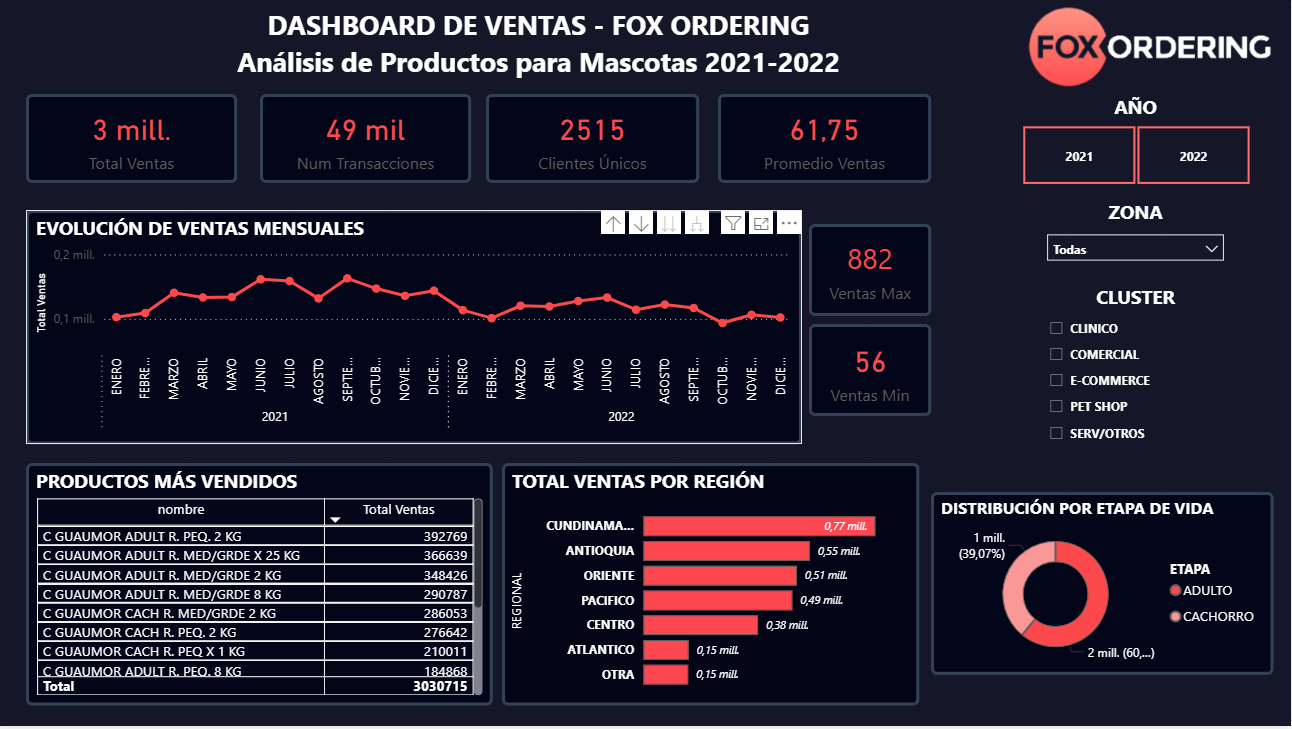

Layout of this report page (visuals, bound fields, positions):
{"tool":"powerbi","page":{"name":"Página 1","canvas":[1280,720],"ordinal":0},"visuals":[{"type":"card","fields":{"Values":["PD_Ventas_Mes.Total Ventas"]},"box":[28.7,95,208.8,88.1],"z":0},{"type":"card","fields":{"Values":["PD_Ventas_Mes.Clientes Únicos"]},"box":[484,95,210.8,88.1],"z":1000},{"type":"card","title":"Ventas Maximas","fields":{"Values":["PD_Ventas_Mes.Ventas Max"]},"box":[803.6,223.7,120.7,91.1],"z":2000},{"type":"card","fields":{"Values":["PD_Ventas_Mes.Num Transacciones"]},"box":[260.3,95,208.8,88.1],"z":3000},{"type":"lineChart","title":"EVOLUCIÓN DE VENTAS MENSUALES","fields":{"Category":["PD_Ventas_Mes.año","PD_Ventas_Mes.mes_txt"],"Y":["PD_Ventas_Mes.Total Ventas"]},"box":[28.7,209.8,768,231.6],"z":4000},{"type":"tableEx","title":"PRODUCTOS MÁS VENDIDOS","fields":{"Values":["PD_Maestro_Productos.nombre","PD_Ventas_Mes.Total Ventas"]},"box":[28.7,460.2,462.2,240.5],"z":5000},{"type":"donutChart","title":"DISTRIBUCIÓN POR ETAPA DE VIDA","fields":{"Category":["PD_Maestro_Productos.etapa"],"Y":["PD_Ventas_Mes.Total Ventas"]},"box":[924.4,488.9,339.5,181.1],"z":6000},{"type":"image","box":[1014.4,0,265.2,95],"z":7000},{"type":"textbox","box":[195,3,681.9,88.1],"z":8000},{"type":"slicer","title":"AÑO","fields":{"Values":["PD_Ventas_Mes.año"]},"box":[989.7,95,274.1,96],"z":9000},{"type":"slicer","title":"CLUSTER","fields":{"Values":["PD_Maestro_Clientes.cluster"]},"box":[1029.3,283.1,195,169.2],"z":10000},{"type":"slicer","title":"ZONA","fields":{"Values":["PD_Maestro_Clientes.regionNielsen"]},"box":[1029.3,198.9,195,74.2],"z":11000},{"type":"clusteredBarChart","title":"TOTAL VENTAS POR REGIÓN","fields":{"Category":["PD_Maestro_Clientes.regionNielsen"],"Y":["PD_Ventas_Mes.Total Ventas"]},"box":[499.8,460.2,412.7,239.5],"z":12000},{"type":"card","fields":{"Values":["PD_Ventas_Mes.Ventas Min"]},"box":[803.6,322.6,120.7,91.1],"z":13000},{"type":"card","fields":{"Values":["PD_Ventas_Mes.Promedio Ventas"]},"box":[713.6,95,210.8,88.1],"z":14000}]}

Visuals, with their boxes in screenshot pixels (x1, y1, x2, y2), scaled from the page's 1280x720 canvas onto the 1292x729 screenshot:
card - PD_Ventas_Mes.Total Ventas: {"left": 29, "top": 96, "right": 240, "bottom": 185}
card - PD_Ventas_Mes.Clientes Únicos: {"left": 489, "top": 96, "right": 701, "bottom": 185}
"Ventas Maximas" card: {"left": 811, "top": 226, "right": 933, "bottom": 319}
card - PD_Ventas_Mes.Num Transacciones: {"left": 263, "top": 96, "right": 473, "bottom": 185}
"EVOLUCIÓN DE VENTAS MENSUALES" lineChart: {"left": 29, "top": 212, "right": 804, "bottom": 447}
"PRODUCTOS MÁS VENDIDOS" tableEx: {"left": 29, "top": 466, "right": 496, "bottom": 709}
"DISTRIBUCIÓN POR ETAPA DE VIDA" donutChart: {"left": 933, "top": 495, "right": 1276, "bottom": 678}
image: {"left": 1024, "top": 0, "right": 1291, "bottom": 96}
textbox: {"left": 197, "top": 3, "right": 885, "bottom": 92}
"AÑO" slicer: {"left": 999, "top": 96, "right": 1276, "bottom": 193}
"CLUSTER" slicer: {"left": 1039, "top": 287, "right": 1236, "bottom": 458}
"ZONA" slicer: {"left": 1039, "top": 201, "right": 1236, "bottom": 277}
"TOTAL VENTAS POR REGIÓN" clusteredBarChart: {"left": 504, "top": 466, "right": 921, "bottom": 708}
card - PD_Ventas_Mes.Ventas Min: {"left": 811, "top": 327, "right": 933, "bottom": 419}
card - PD_Ventas_Mes.Promedio Ventas: {"left": 720, "top": 96, "right": 933, "bottom": 185}
